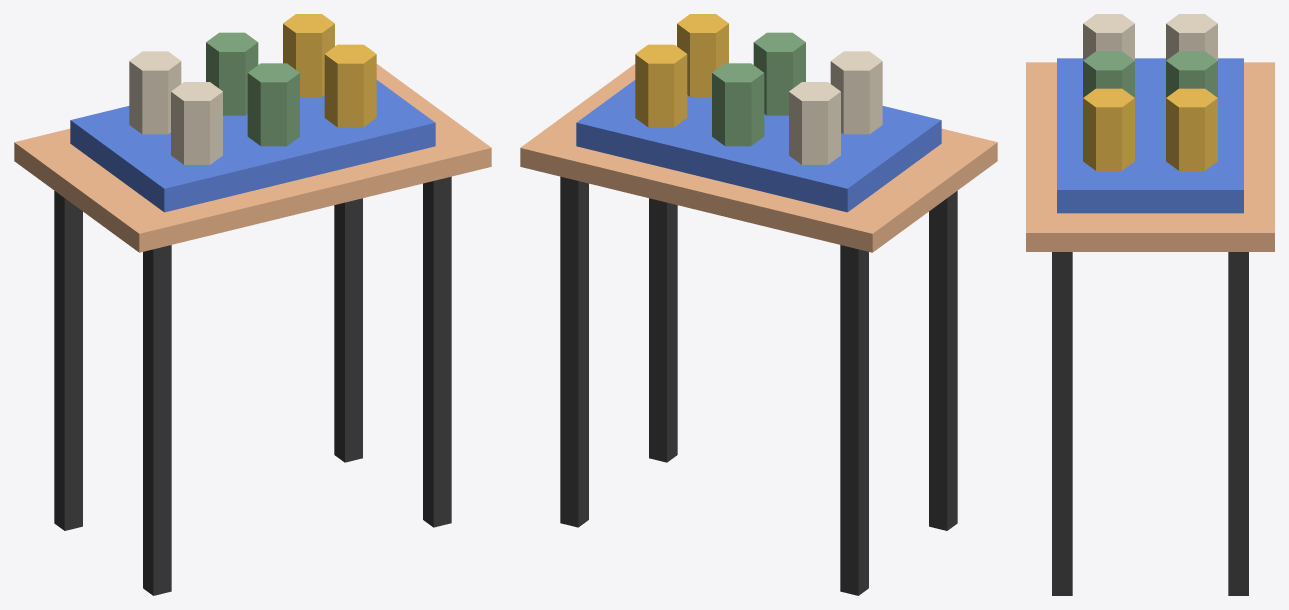
The picture shows the model from 3 angles, left to right: view 1: azimuth 30°, elevation 25°; view 2: azimuth 150°, elevation 25°; view 3: azimuth 270°, elevation 25°; orthographic projection.
Parts seen in each view (by area): view 1: Display tabletop, Organizer tray, Display support leg.002, Display support leg, Display support leg.001, Display support leg.003, parts item.002, parts item.001, parts item, parts item.003, parts item.004, parts item.005; view 2: Display tabletop, Organizer tray, Display support leg.003, Display support leg.001, Display support leg, Display support leg.002, parts item.005, parts item.004, parts item.003, parts item, parts item.001, parts item.002; view 3: Display tabletop, Organizer tray, Display support leg.002, Display support leg.003, parts item.002, parts item.005, parts item, parts item.001, parts item.003, parts item.004.
Part boxes in pixels (x1=…): Display tabletop: x1=14, y1=64, x2=491, y2=252; Organizer tray: x1=70, y1=80, x2=435, y2=212; Display support leg.002: x1=423, y1=176, x2=451, y2=527; Display support leg: x1=143, y1=245, x2=171, y2=595; Display support leg.001: x1=54, y1=191, x2=82, y2=530; Display support leg.003: x1=334, y1=198, x2=362, y2=462; parts item.002: x1=324, y1=44, x2=376, y2=127; parts item.001: x1=247, y1=63, x2=299, y2=146; parts item: x1=171, y1=82, x2=222, y2=164; parts item.003: x1=129, y1=51, x2=181, y2=134; parts item.004: x1=206, y1=32, x2=258, y2=115; parts item.005: x1=283, y1=14, x2=334, y2=96; Display tabletop: x1=520, y1=64, x2=997, y2=252; Organizer tray: x1=576, y1=80, x2=941, y2=212; Display support leg.003: x1=560, y1=176, x2=588, y2=527; Display support leg.001: x1=840, y1=245, x2=868, y2=595; Display support leg: x1=929, y1=191, x2=957, y2=530; Display support leg.002: x1=649, y1=198, x2=677, y2=462; parts item.005: x1=635, y1=44, x2=687, y2=127; parts item.004: x1=712, y1=63, x2=764, y2=146; parts item.003: x1=789, y1=82, x2=840, y2=164; parts item: x1=830, y1=51, x2=882, y2=134; parts item.001: x1=753, y1=32, x2=805, y2=115; parts item.002: x1=677, y1=14, x2=728, y2=96; Display tabletop: x1=1026, y1=62, x2=1274, y2=251; Organizer tray: x1=1057, y1=58, x2=1243, y2=213; Display support leg.002: x1=1052, y1=252, x2=1072, y2=595; Display support leg.003: x1=1228, y1=252, x2=1248, y2=595; parts item.002: x1=1083, y1=88, x2=1134, y2=170; parts item.005: x1=1166, y1=88, x2=1217, y2=170; parts item: x1=1083, y1=14, x2=1134, y2=60; parts item.001: x1=1083, y1=51, x2=1134, y2=97; parts item.003: x1=1166, y1=14, x2=1217, y2=60; parts item.004: x1=1166, y1=51, x2=1217, y2=97.
Size of the model in its own units: 78 by 98.5 by 48.
